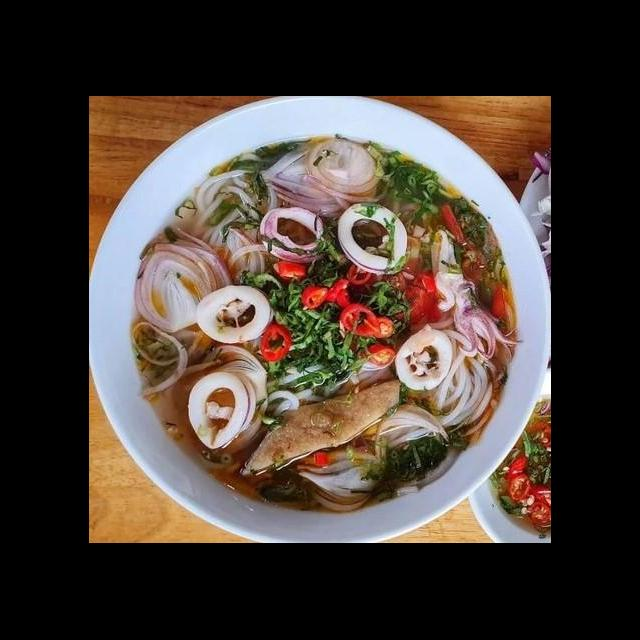bun: (336, 312, 497, 452), (186, 146, 280, 288), (257, 340, 395, 432)
muc: (424, 224, 525, 366), (333, 198, 413, 280), (185, 368, 260, 453), (190, 280, 279, 348), (257, 204, 333, 268), (391, 322, 456, 394)
